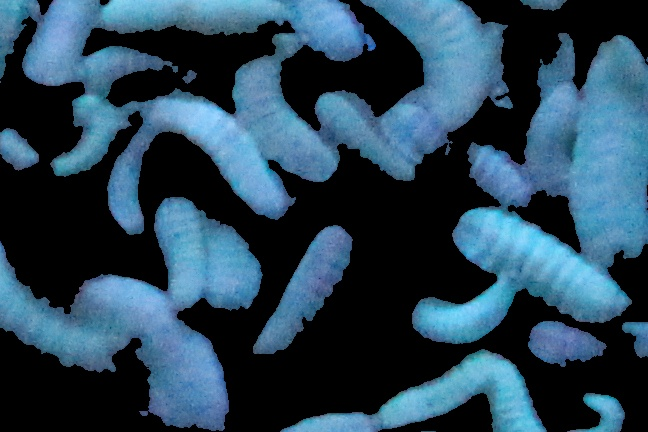larvae: (71, 271, 240, 432), (452, 203, 630, 320), (142, 93, 293, 217), (568, 40, 648, 264), (1, 236, 120, 373), (369, 1, 491, 125), (384, 106, 530, 206), (227, 58, 338, 180), (256, 227, 359, 356), (378, 348, 488, 424), (314, 98, 413, 182), (147, 197, 210, 309), (20, 1, 102, 87), (196, 212, 264, 311), (97, 3, 285, 36), (79, 47, 201, 97), (414, 279, 512, 338), (53, 94, 123, 176), (282, 1, 372, 62), (530, 86, 578, 193), (483, 355, 539, 432), (107, 156, 150, 240), (560, 382, 626, 432), (266, 407, 389, 432)
